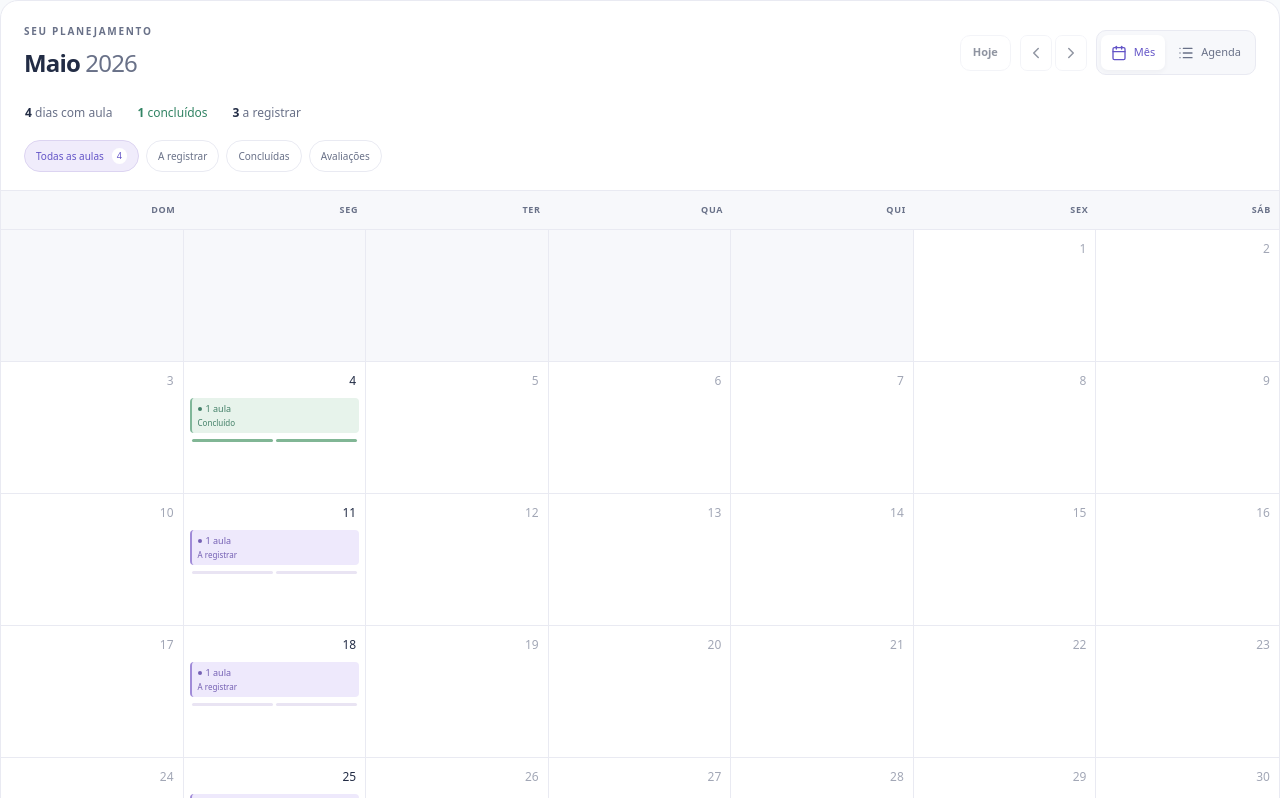
filtra a agenda por registros concluídos e pendentes sem mudar os dados
Click the button "Agenda".
click(1210, 52)  # box [1168,35,1251,70]
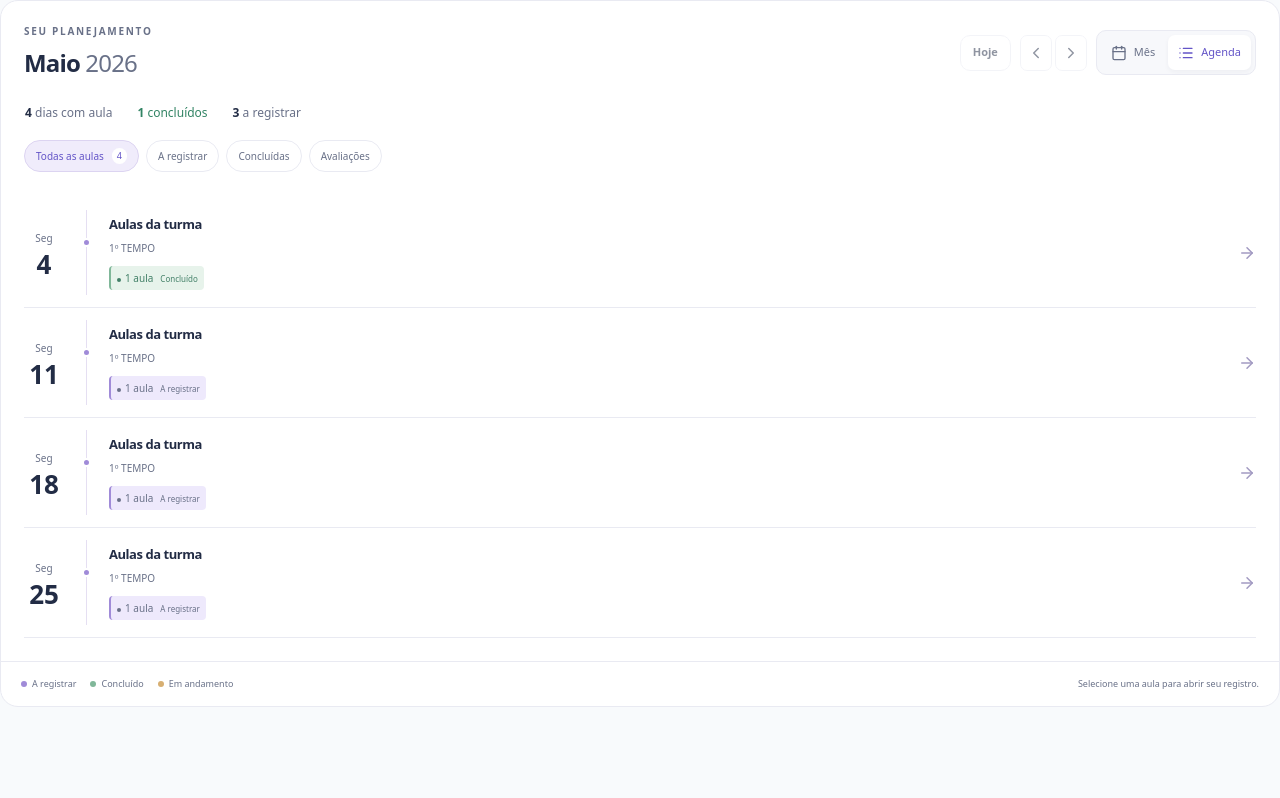
Click the button "Concluídas".
click(264, 156)  # box [226,140,302,172]
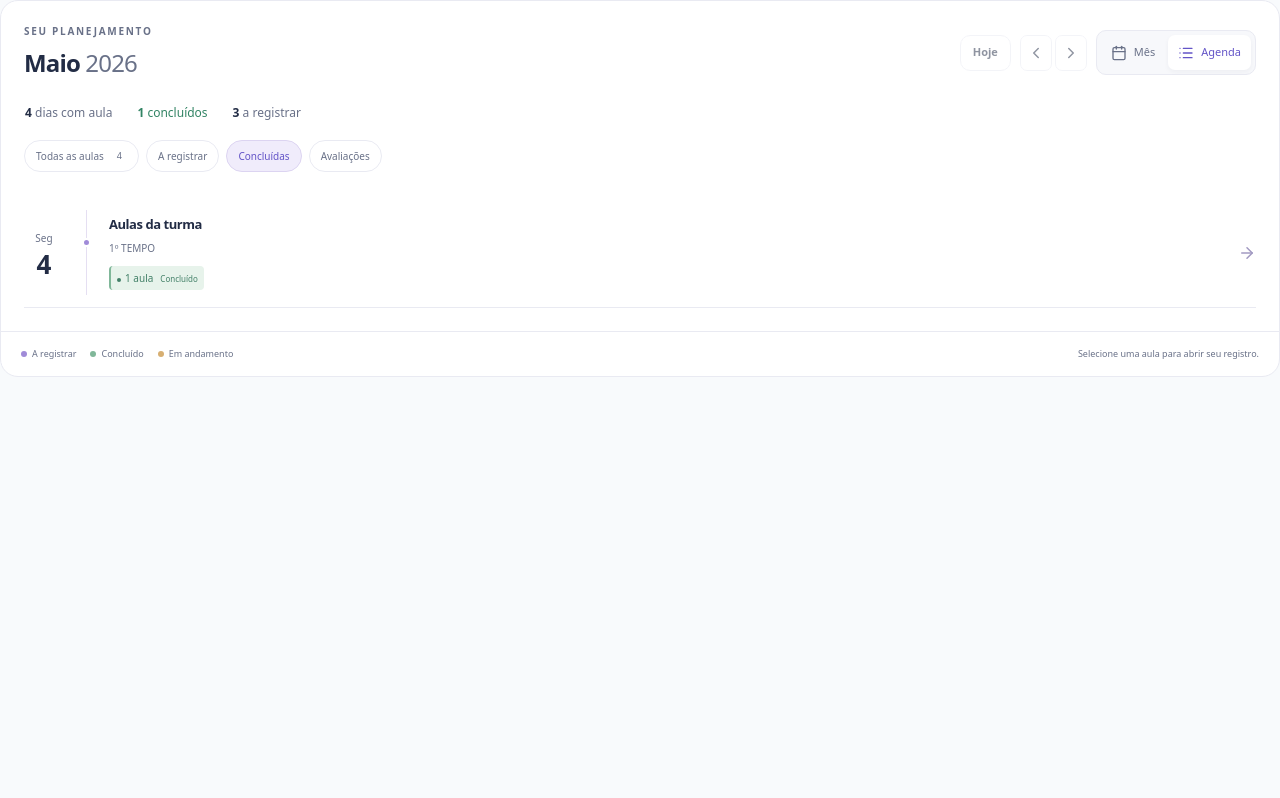
Result: the button with aria-label "4 de Maio, Segunda-feira" is shown at [24,198,1256,308]
Click the button "A registrar".
click(183, 156)  # box [146,140,219,172]
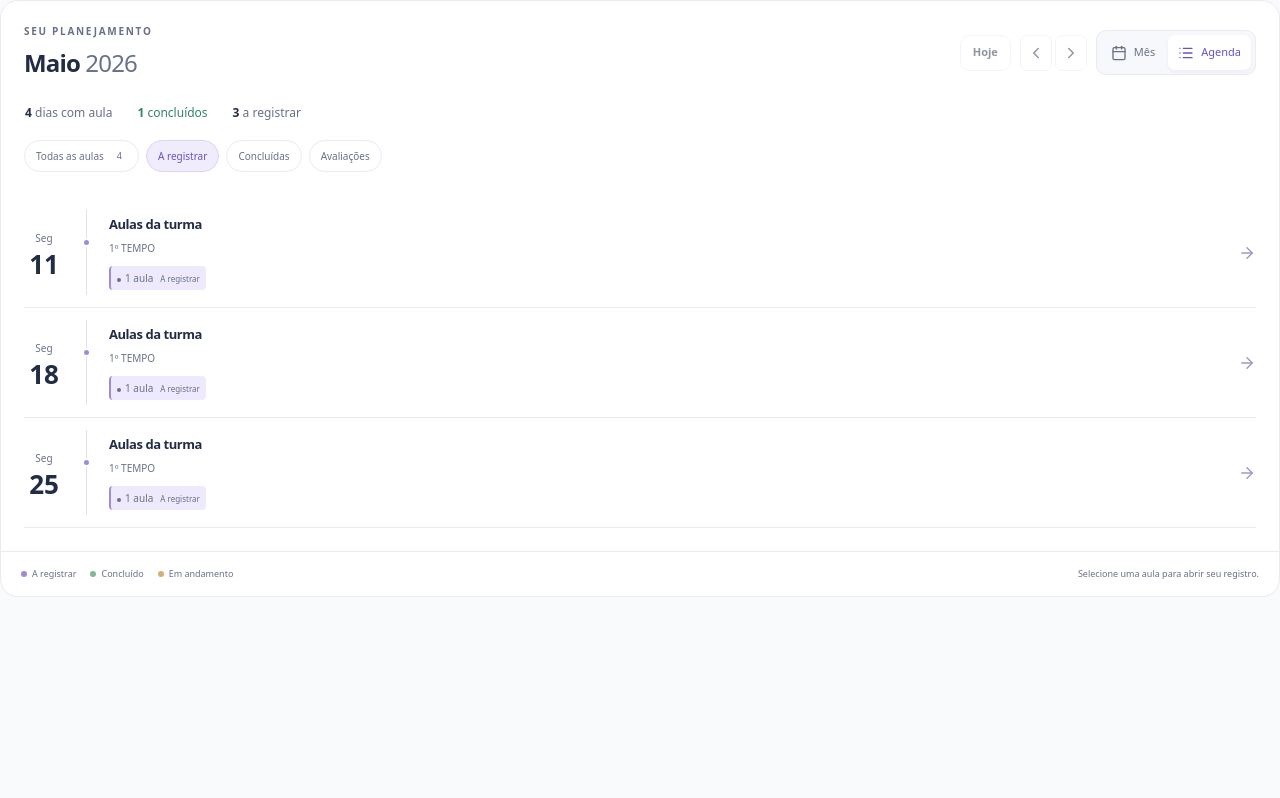
Result: the button with aria-label "11 de Maio, Segunda-feira" is shown at [24,198,1256,308]
